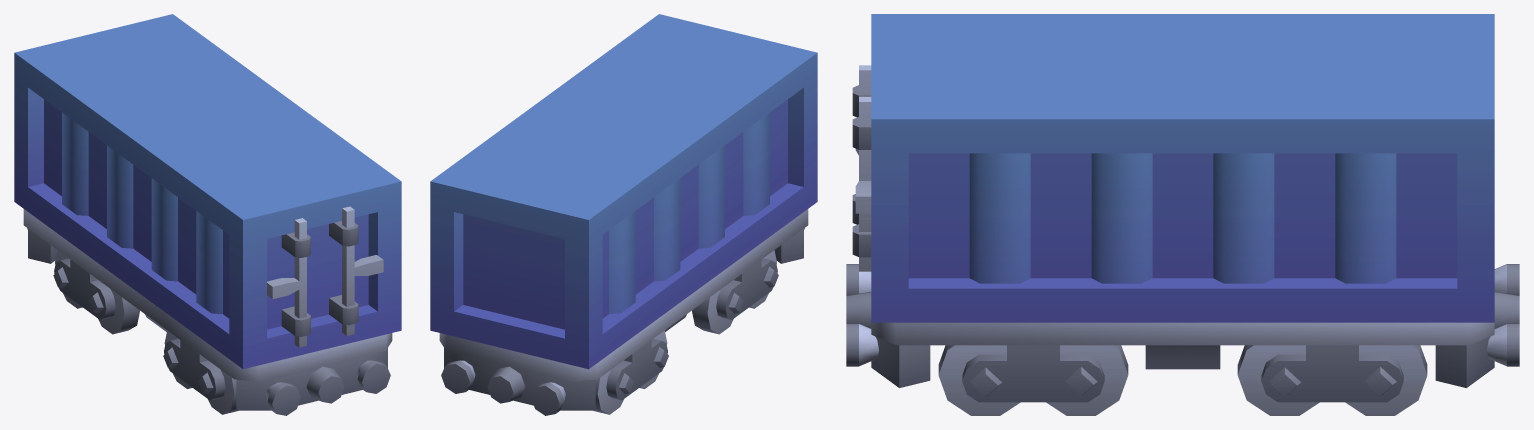
The model's file is train-wag2.glb.
The picture shows the model from 3 angles, left to right: view 1: azimuth 30°, elevation 25°; view 2: azimuth 150°, elevation 25°; view 3: azimuth 270°, elevation 25°; orthographic projection. The views are drawn at different scales.
Parts seen in each view (by area): view 1: train-carriage-container-blue; view 2: train-carriage-container-blue; view 3: train-carriage-container-blue.
Part boxes in pixels (box(x1,y1,x2,y2)): train-carriage-container-blue: box(14, 14, 401, 415); train-carriage-container-blue: box(430, 14, 817, 415); train-carriage-container-blue: box(846, 14, 1519, 415).
Bounding box in the file's own units: 1 × 1.36 × 2.7.
Materials: 1 (1 with a texture image).
